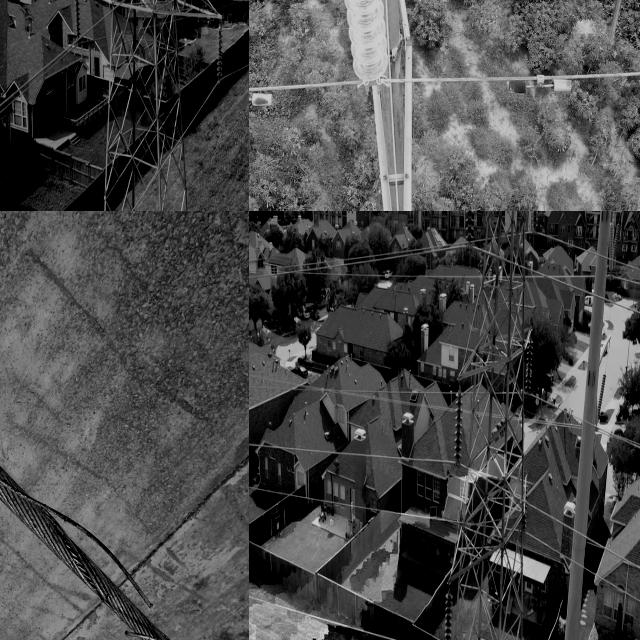杆塔: (436, 211, 536, 640), (65, 0, 231, 211)
正常电缆: (249, 57, 640, 99)
正常绝缘子: (332, 0, 391, 88), (520, 338, 540, 422), (452, 386, 465, 472), (214, 17, 228, 92), (69, 0, 86, 61), (462, 211, 480, 266), (439, 581, 454, 640), (530, 211, 541, 238)
电缆破损: (0, 370, 170, 565)
